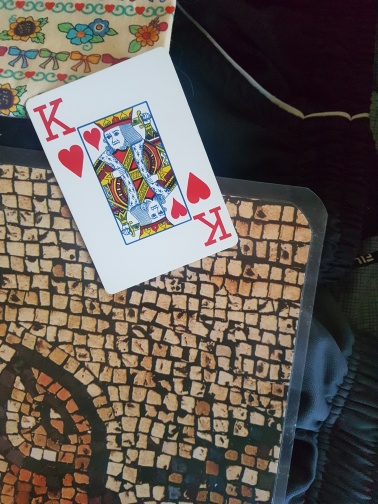king: (26, 46, 236, 295)
